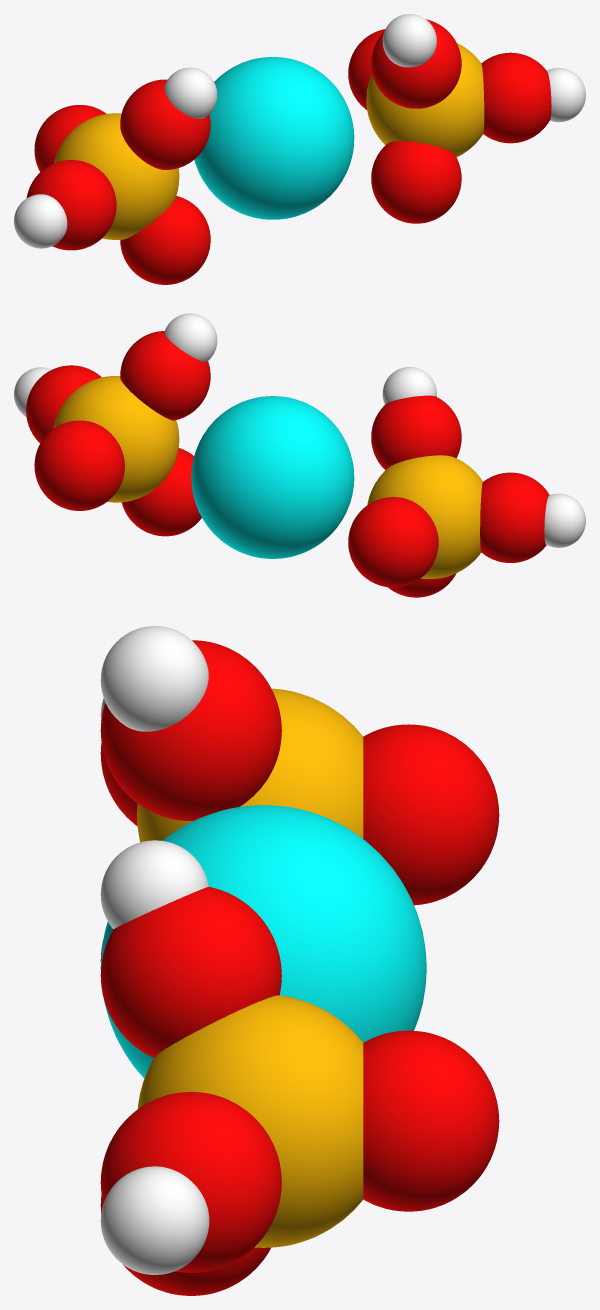
3 views of the same model, one above another, from view 1: azimuth 30°, elevation 25°; view 2: azimuth 150°, elevation 25°; view 3: azimuth 270°, elevation 25° (orthographic). The views are drawn at different scales.
Parts seen in each view (by area): view 1: Ca, P_L, P_R, O4_R, O2_R, O3_L, O4_L, O2_L, O3_R, H2_R, H1_L, H2_L (+3 smaller); view 2: Ca, P_L, P_R, O1_L, O1_R, O3_R, O2_L, O3_L, O4_R, O2_R, H1_L, H2_R (+3 smaller); view 3: Ca, P_R, O3_R, O1_R, O3_L, O1_L, O2_R, P_L, H1_R, H2_L, H2_R, O4_R (+1 smaller).
Boxes of the visible parts, box(x1,y1,x2,y2) form: Ca: box(194, 57, 354, 219); P_L: box(54, 113, 179, 239); P_R: box(366, 43, 484, 157); O4_R: box(371, 141, 461, 223); O2_R: box(481, 52, 551, 143); O3_L: box(120, 79, 210, 169); O4_L: box(120, 196, 210, 284); O2_L: box(26, 160, 116, 250); O3_R: box(371, 19, 461, 108); H2_R: box(382, 14, 436, 67); H1_L: box(14, 194, 67, 248); H2_L: box(164, 67, 217, 118); Ca: box(191, 396, 354, 558); P_L: box(367, 455, 482, 578); P_R: box(53, 376, 179, 502); O1_L: box(348, 497, 438, 587); O1_R: box(34, 420, 124, 510); O3_R: box(120, 331, 210, 420); O2_L: box(480, 472, 549, 562); O3_L: box(371, 395, 461, 469); O4_R: box(121, 448, 201, 536); O2_R: box(26, 365, 101, 443); H1_L: box(544, 493, 585, 547); H2_R: box(164, 313, 217, 361); Ca: box(100, 805, 426, 1078); P_R: box(137, 995, 363, 1247); O3_R: box(100, 887, 281, 1057); O1_R: box(363, 1030, 499, 1211); O3_L: box(100, 640, 281, 820); O1_L: box(363, 724, 499, 905); O2_R: box(100, 1092, 281, 1272); P_L: box(137, 688, 363, 842); H1_R: box(100, 1166, 209, 1274); H2_L: box(100, 626, 208, 731); H2_R: box(100, 840, 208, 928); O4_R: box(100, 1195, 270, 1295).
Bounding box in the file's own units: 7.2 × 2.6 × 2.2.
